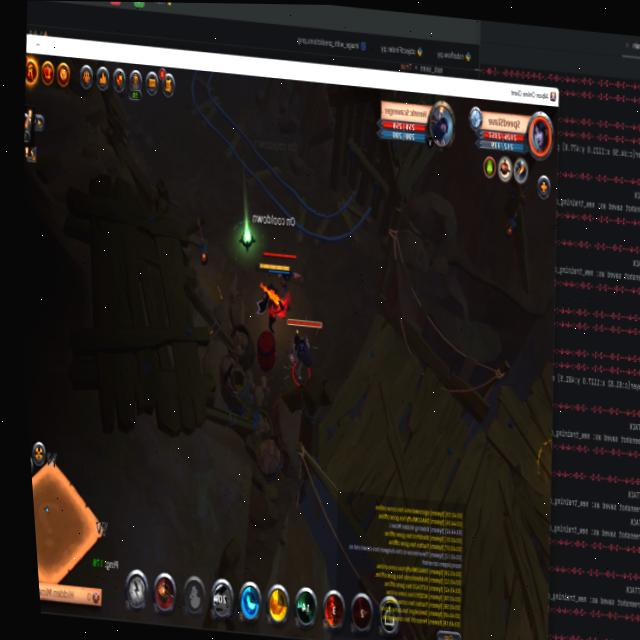ore: (277, 315, 327, 392), (255, 245, 304, 314)
red: (248, 258, 295, 329)
